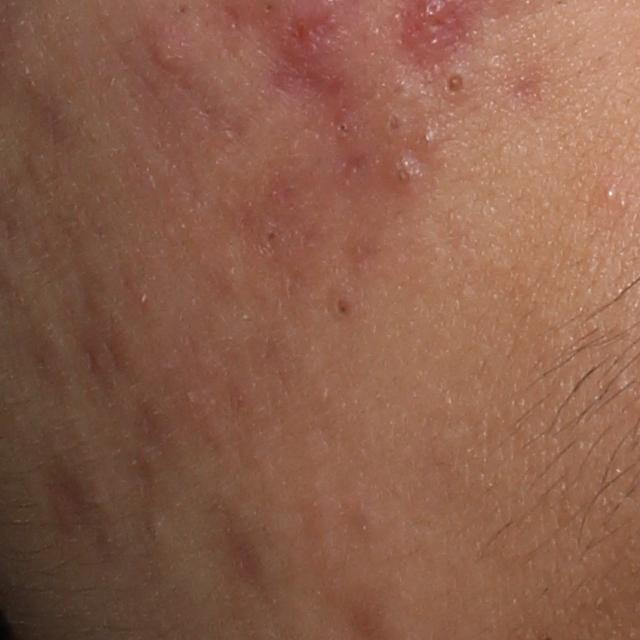comedo: (139, 510, 170, 547), (438, 68, 469, 96), (331, 291, 357, 319), (604, 183, 625, 202), (263, 229, 278, 245)
papule: (142, 26, 194, 74), (387, 152, 426, 189), (413, 120, 443, 151)
